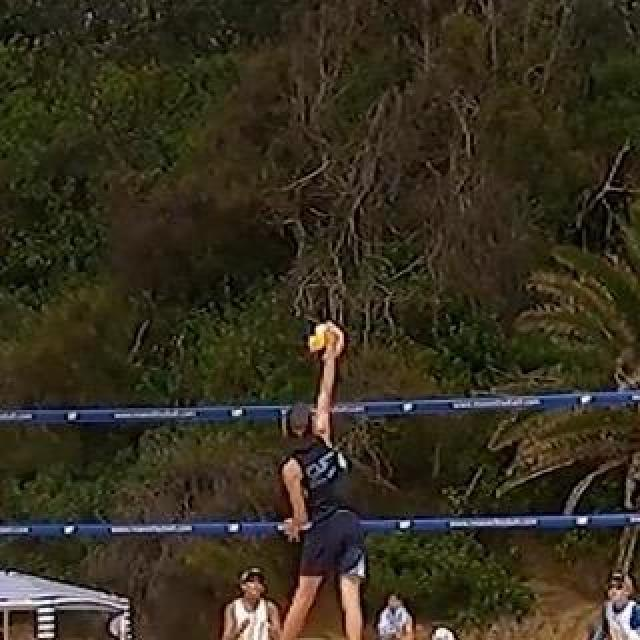volleyball: (307, 322, 347, 362)
